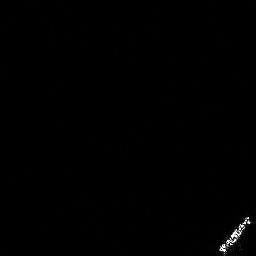ship: (214, 212, 256, 256)
